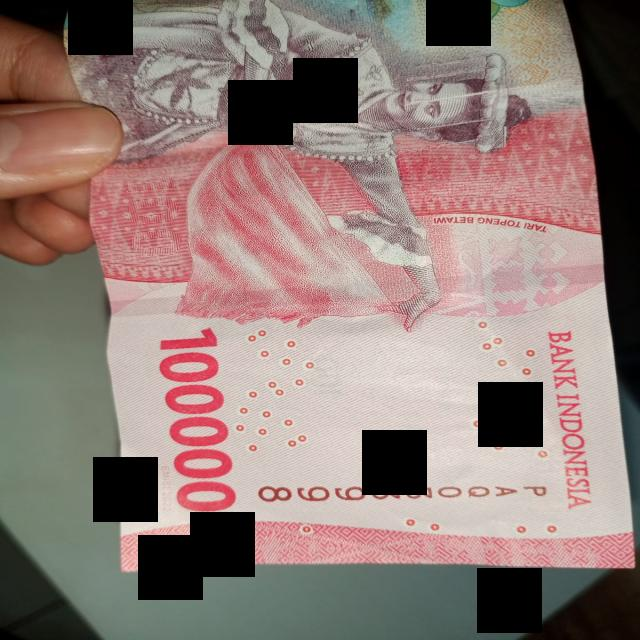seratusribu rupiah: (65, 0, 633, 571)
